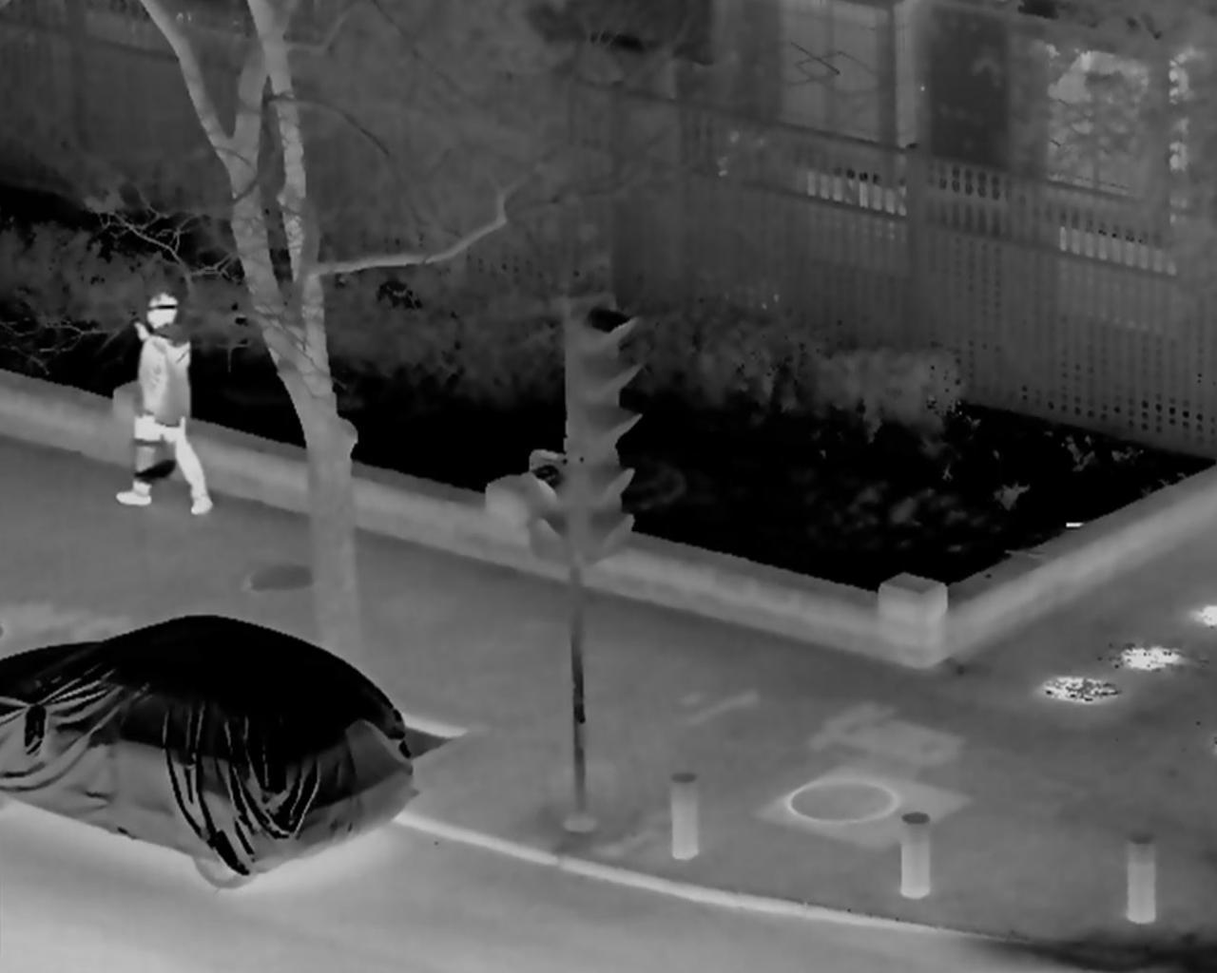person: (118, 287, 222, 516)
